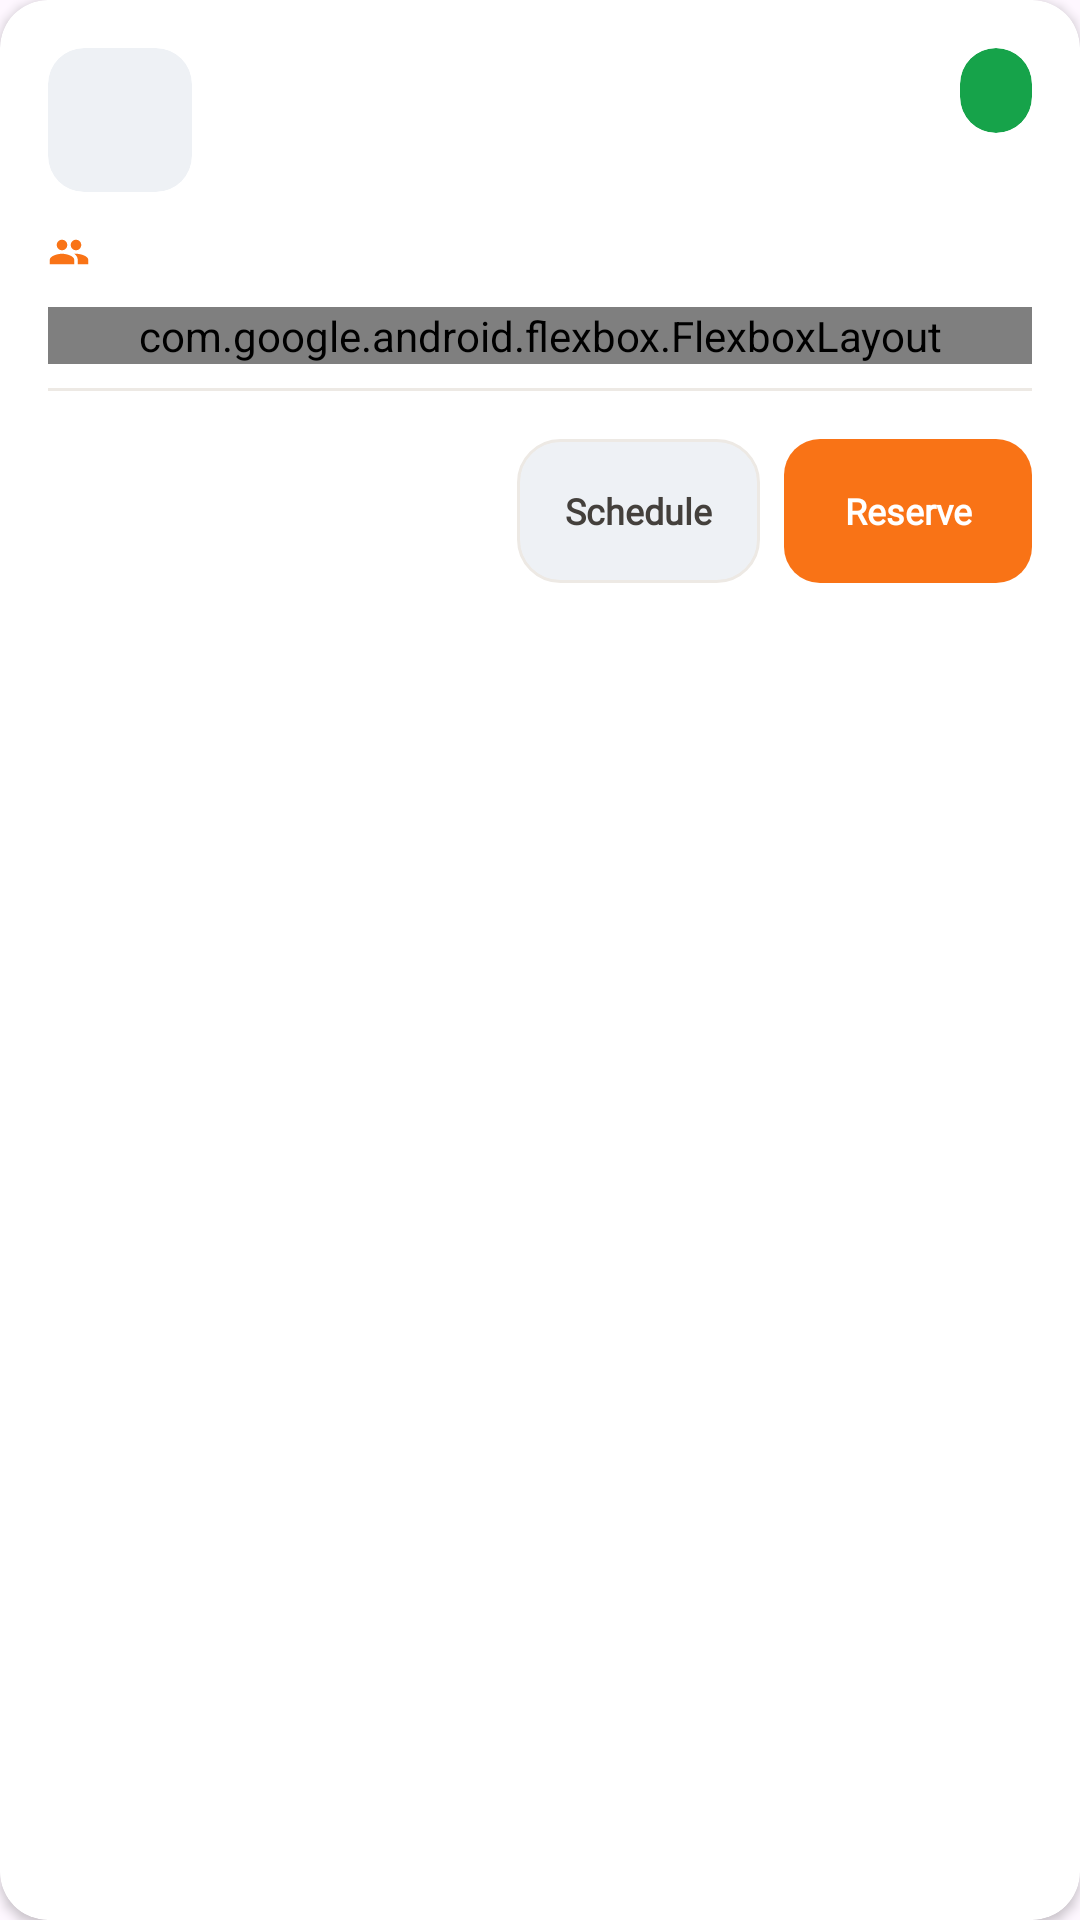

Icon bounding boxes for this 1080 × 1920 phone screenshot, format rect(x1, y1, x2, y2):
Capacity icon: rect(49, 239, 89, 265)
